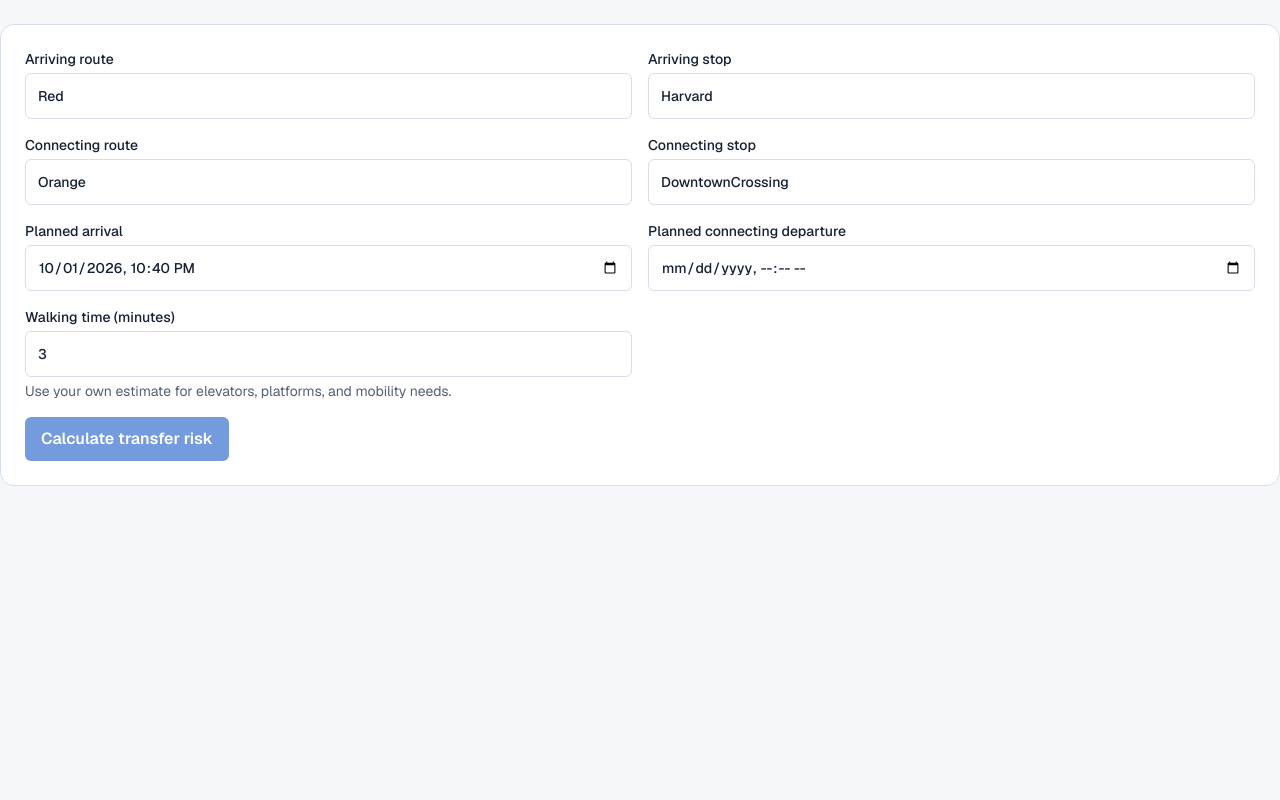
Test: TransferRiskCalculator › shows a plainly labelled empirical risk result
Type "2026-08-05T10:10" into the field labelled "Planned connecting departure" at (952, 268), box [648,245,1255,291]
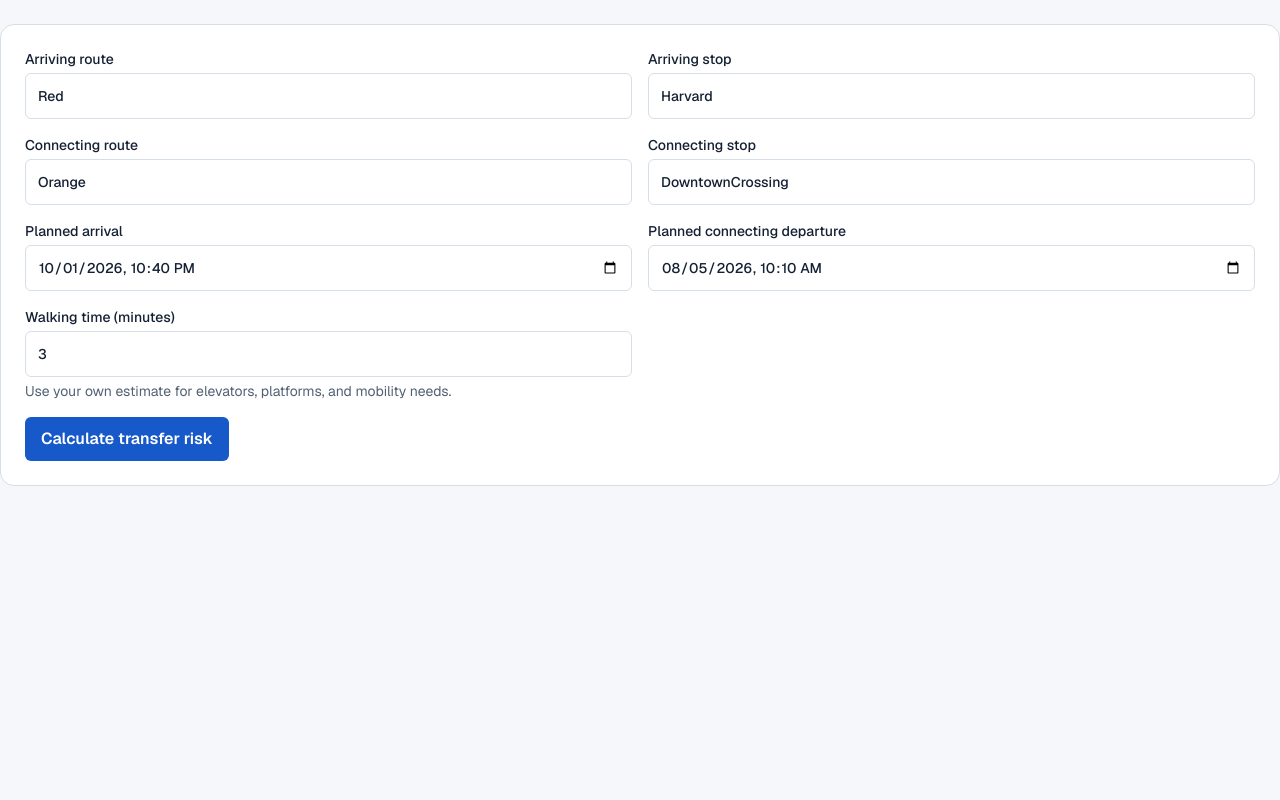
Click the button "Calculate transfer risk" at (127, 439), box [25,417,229,461]
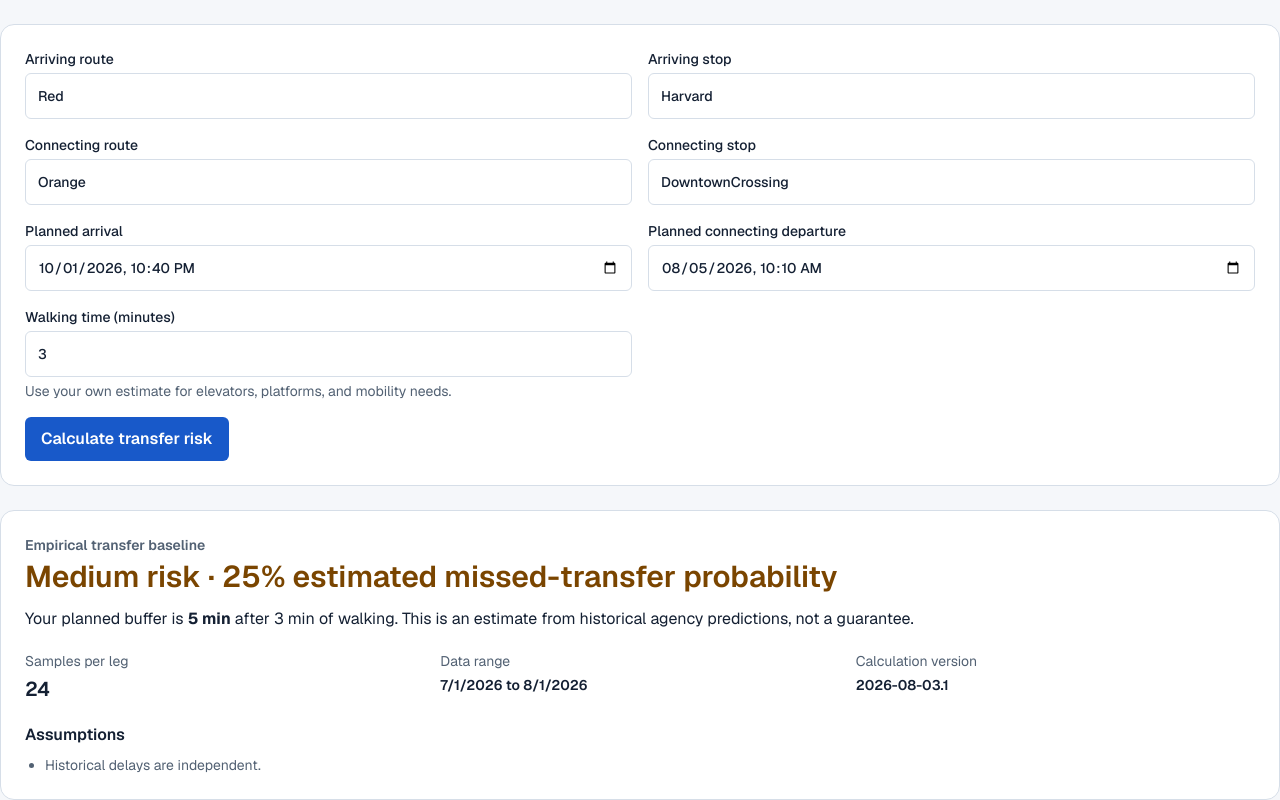
expect the heading "Medium risk · 25% estimated missed-transfer probability" is shown: met, box [25,557,838,596]
expect the text "not a guarantee" is shown: met, box [315,608,914,629]
